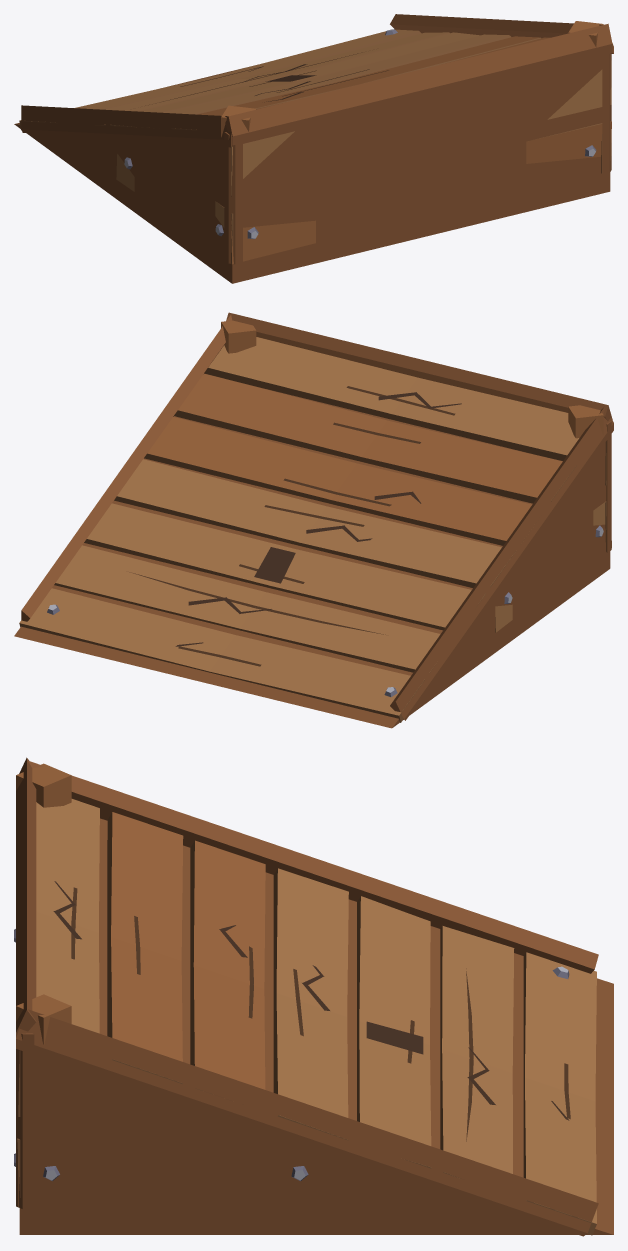
File: cone_plank_slope_crack2.glb
3 renders of one model, top to bottom at view 1: azimuth 30°, elevation 25°; view 2: azimuth 150°, elevation 25°; view 3: azimuth 270°, elevation 25°, orthographic. The views are drawn at different scales.
Parts seen in each view (by area): view 1: Body; view 2: Body; view 3: Body.
Part boxes in pixels (left/top/right/bottom): Body: left=14, top=14, right=613, bottom=283; Body: left=14, top=312, right=613, bottom=728; Body: left=14, top=757, right=613, bottom=1236.
Size of the model in its own units: 4 by 1.68 by 3.98.
